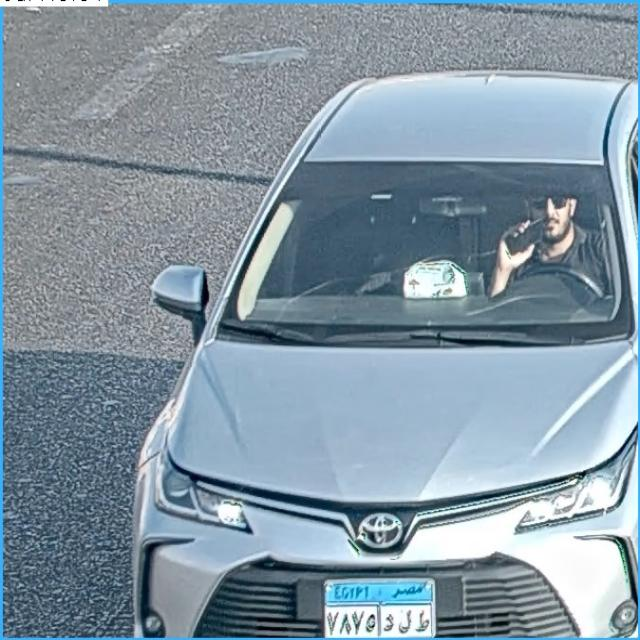windshield: (225, 164, 633, 342)
